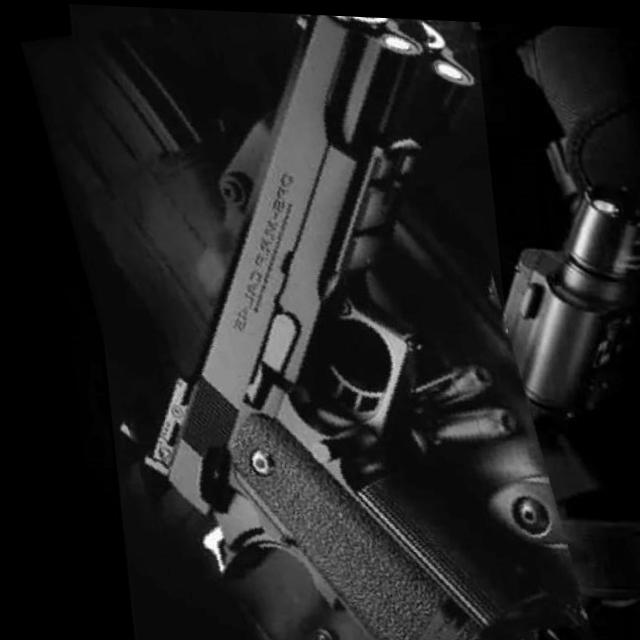handgun: (43, 2, 553, 640)
